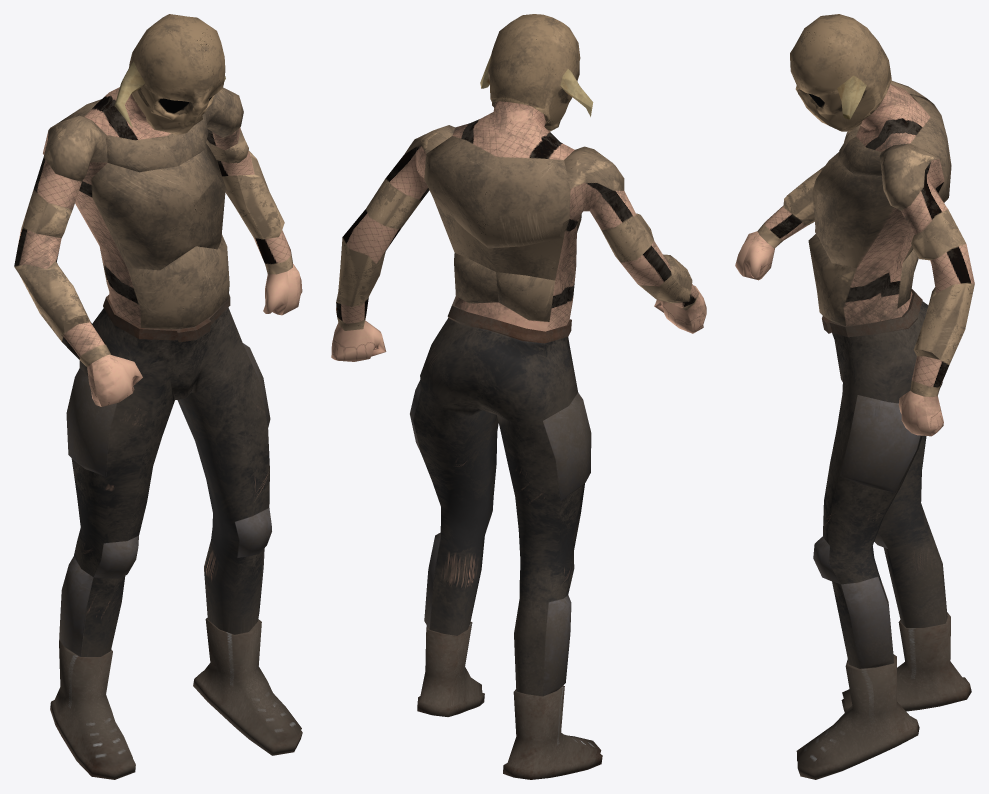
File: Anim_cogerobjeto_npc1.0036.obj
3 views of the same model, side by side, from view 1: azimuth 30°, elevation 25°; view 2: azimuth 150°, elevation 25°; view 3: azimuth 270°, elevation 25° (orthographic). The views are drawn at different scales.
Visible parts, largest first — view 1: NPC2; view 2: NPC2; view 3: NPC2.
Boxes of the visible parts, x1,y1,x2,y2 form: NPC2: [14, 14, 302, 779]; NPC2: [331, 14, 706, 779]; NPC2: [735, 14, 974, 779].
Size of the model in its own units: 4.26 by 9.58 by 2.9.
